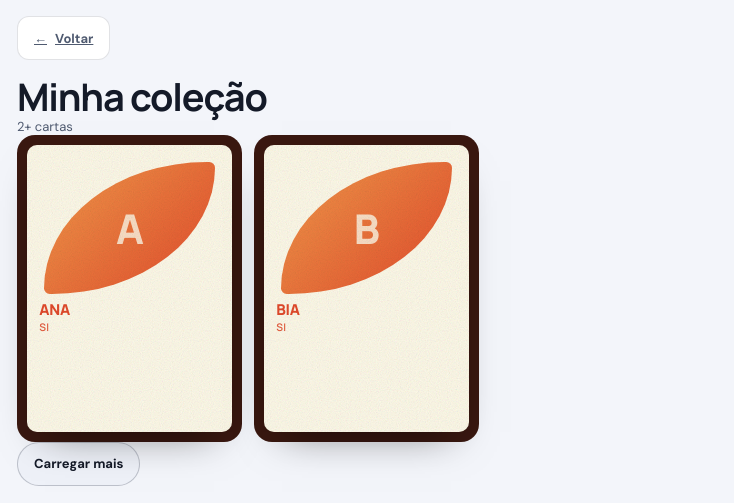
ColecaoPage › lists cards and loads more
expect the text "2+ cartas" is shown: met, box [17,118,73,135]
Step 1. Click the button "Carregar mais" → (79, 464), box [17,442,140,486]
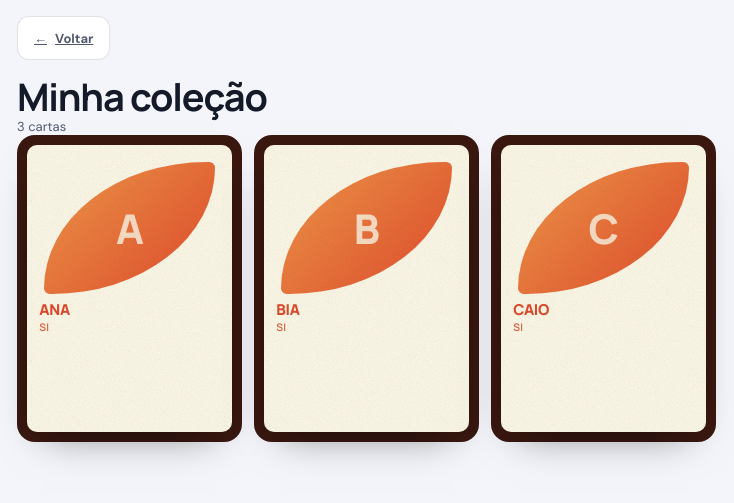
expect the text "3 cartas" is shown: met, box [17,118,66,135]
